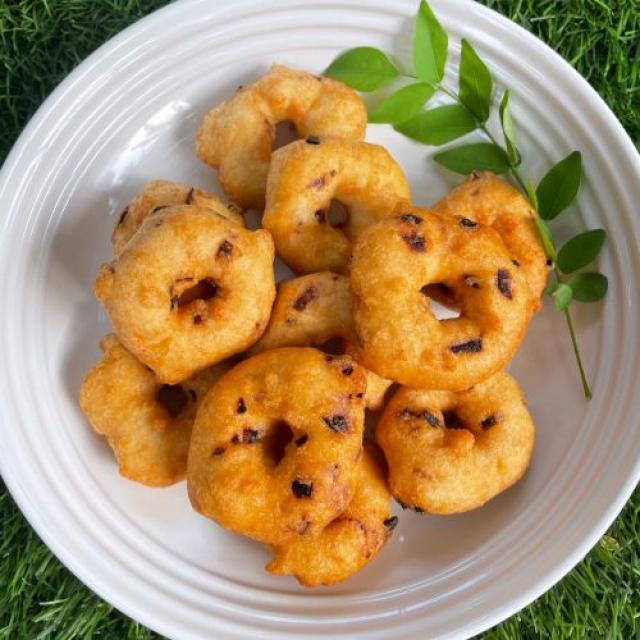MEDU VADA: (180, 344, 364, 552), (349, 216, 528, 390), (108, 207, 280, 381), (372, 384, 535, 520), (260, 137, 411, 277), (75, 345, 208, 485), (208, 81, 354, 204), (257, 453, 391, 583)
